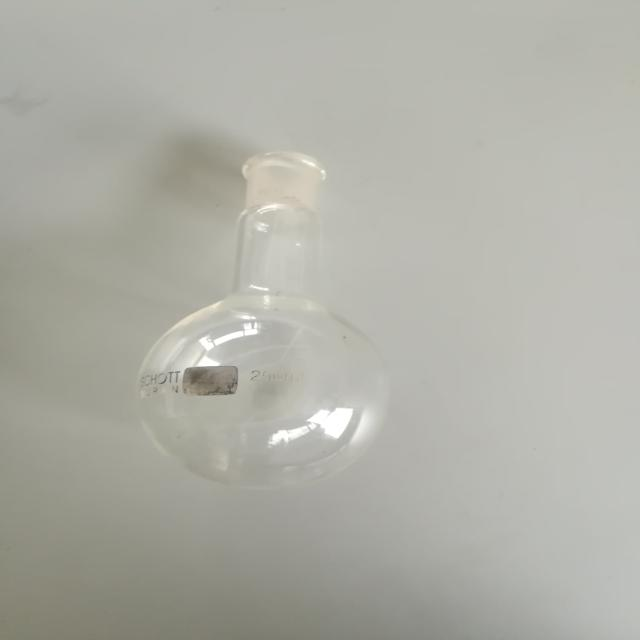Round_Bottom_Flask_Borosilicate_Glass_1_Neck: (136, 100, 428, 516)
